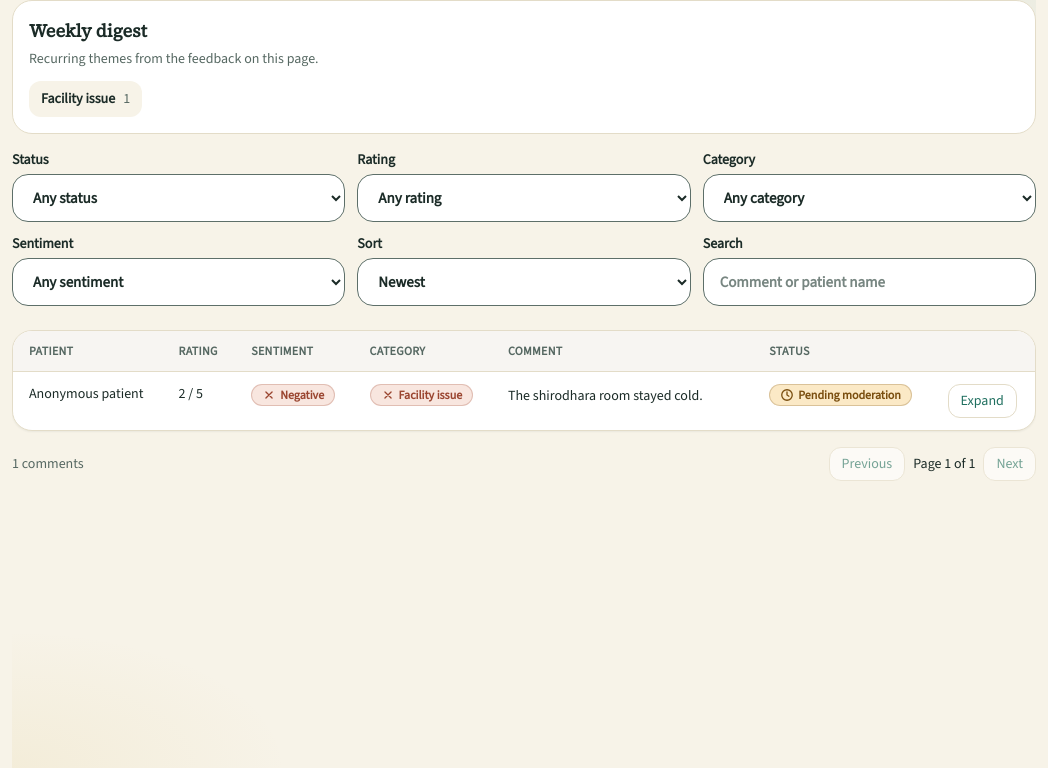
Test case: FeedbackDashboardPage › shows the agent-down message when a draft cannot be generated
Expected: the text "The shirodhara room stayed cold." is shown, 508,386 -> 703,405
Click the button named "expand feedback from anonymous patient" at [982, 401], box 948,384 -> 1017,418
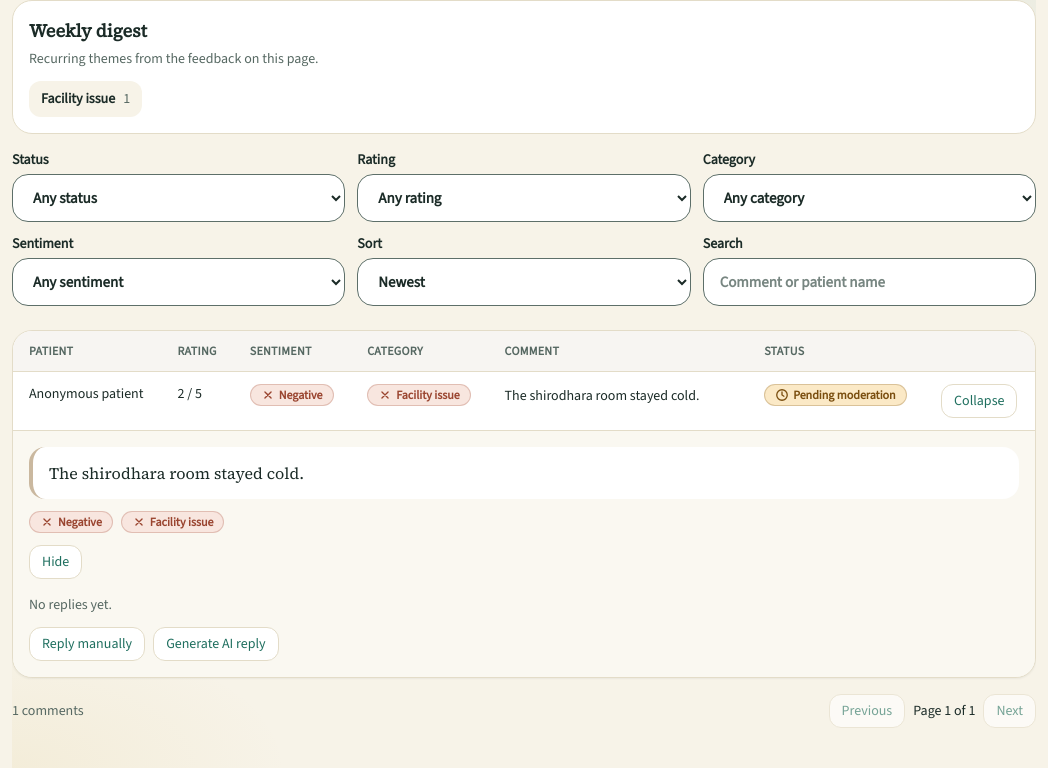
Click the button "Generate AI reply" at [216, 644], box 153,627 -> 279,661
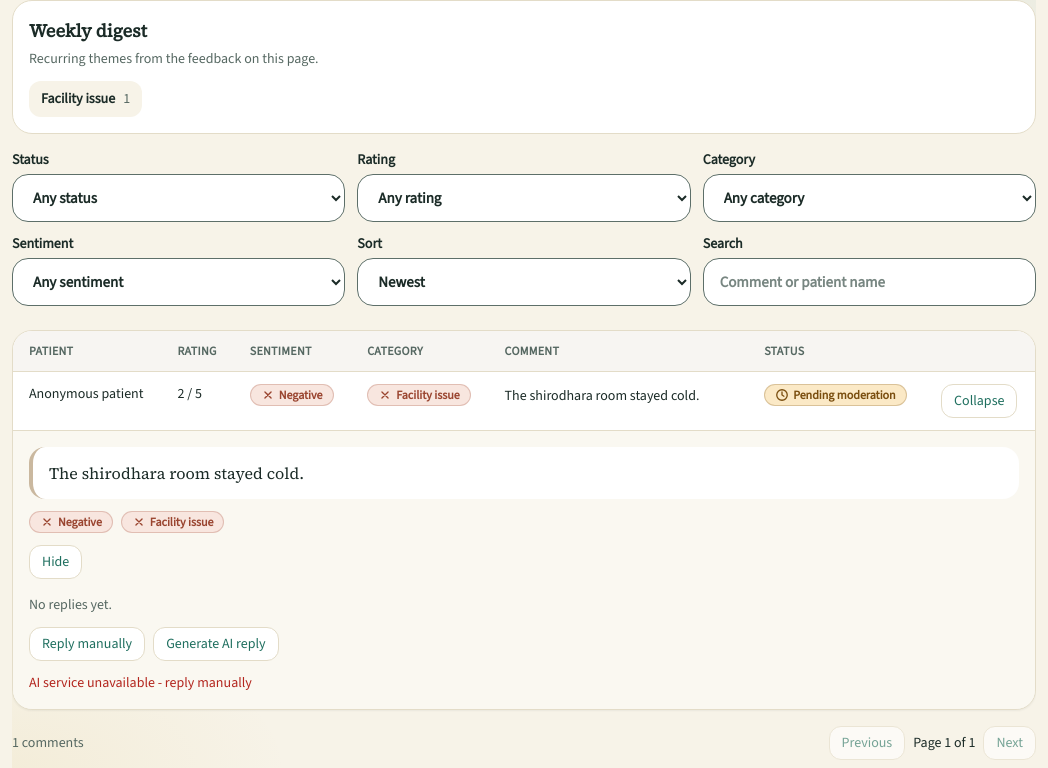
Now the text "AI service unavailable - reply manually" is shown, box 29,673 -> 252,692
